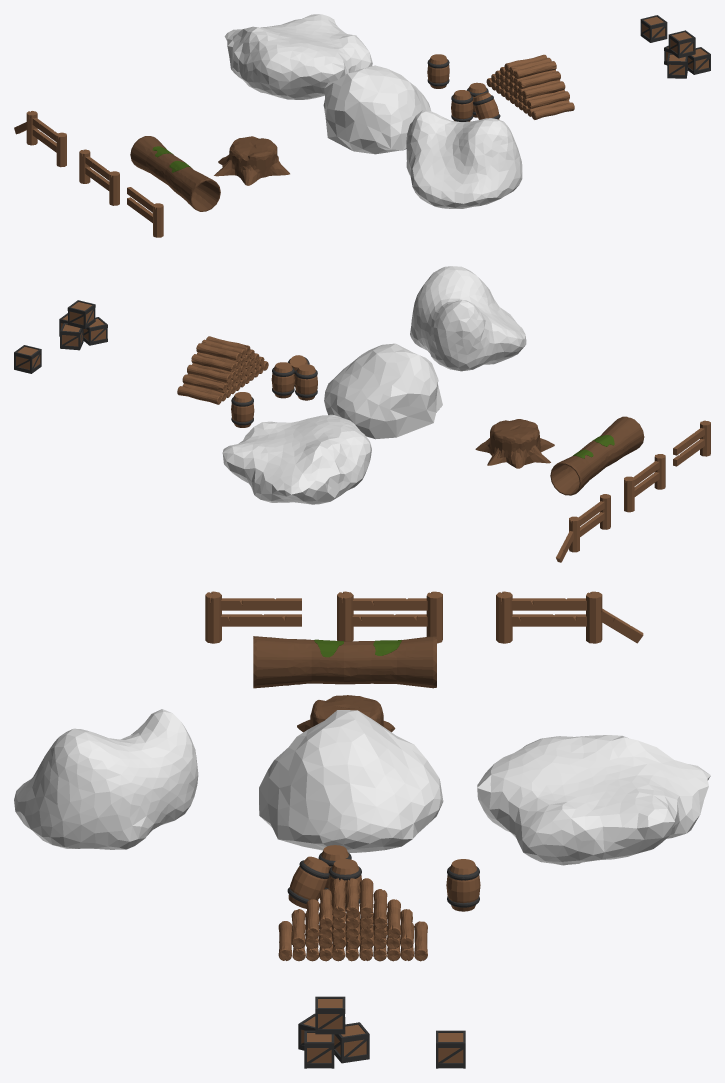
Rendered from decor.fbx.
3 renders of one model, top to bottom at view 1: azimuth 30°, elevation 25°; view 2: azimuth 150°, elevation 25°; view 3: azimuth 270°, elevation 25°, orthographic. The views are drawn at different scales.
Visible parts, largest first — view 1: Rock1, Rock3, Rock2, Firewood, Fallen_Log, Tree_stump, Crates, Torus.004, Fence3, Fence2, Fence1, Barrel (+1 smaller); view 2: Rock3, Rock1, Rock2, Firewood, Fallen_Log, Tree_stump, Crates, Torus.004, Fence3, Fence2, Fence1, Barrel (+1 smaller); view 3: Rock3, Rock2, Rock1, Firewood, Fallen_Log, Fence3, Crates, Fence2, Fence1, Torus.004, Barrel, Tree_stump (+1 smaller).
Boxes of the visible parts, x1=… form: Rock1: x1=406, y1=110, x2=522, y2=208; Rock3: x1=224, y1=14, x2=372, y2=99; Rock2: x1=323, y1=65, x2=430, y2=154; Firewood: x1=486, y1=54, x2=574, y2=119; Fallen_Log: x1=130, y1=136, x2=220, y2=211; Tree_stump: x1=214, y1=136, x2=289, y2=185; Crates: x1=664, y1=30, x2=710, y2=78; Torus.004: x1=451, y1=82, x2=500, y2=121; Fence3: x1=14, y1=111, x2=66, y2=167; Fence2: x1=79, y1=149, x2=119, y2=205; Fence1: x1=127, y1=187, x2=163, y2=237; Barrel: x1=427, y1=54, x2=449, y2=88; Rock3: x1=222, y1=414, x2=371, y2=504; Rock1: x1=410, y1=266, x2=526, y2=371; Rock2: x1=324, y1=343, x2=442, y2=439; Firewood: x1=177, y1=336, x2=268, y2=404; Fallen_Log: x1=550, y1=416, x2=644, y2=495; Tree_stump: x1=475, y1=419, x2=554, y2=468; Crates: x1=59, y1=300, x2=107, y2=350; Torus.004: x1=271, y1=355, x2=317, y2=400; Fence3: x1=556, y1=494, x2=610, y2=562; Fence2: x1=624, y1=454, x2=665, y2=512; Fence1: x1=673, y1=420, x2=710, y2=466; Barrel: x1=231, y1=392, x2=254, y2=427; Rock3: x1=477, y1=735, x2=710, y2=865; Rock2: x1=259, y1=710, x2=443, y2=852; Rock1: x1=14, y1=709, x2=198, y2=849; Firewood: x1=278, y1=878, x2=427, y2=961; Fallen_Log: x1=253, y1=636, x2=436, y2=688; Fence3: x1=496, y1=591, x2=643, y2=643; Crates: x1=298, y1=996, x2=369, y2=1068; Fence2: x1=337, y1=591, x2=442, y2=643; Fence1: x1=205, y1=591, x2=301, y2=643; Torus.004: x1=287, y1=845, x2=361, y2=911; Barrel: x1=446, y1=859, x2=480, y2=911; Tree_stump: x1=297, y1=695, x2=395, y2=732.
Bounding box in the file's own units: 4562 × 635 × 3108.
